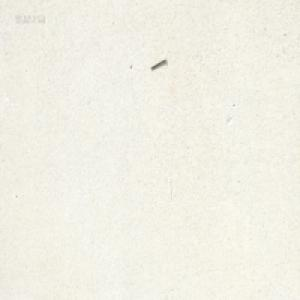Bolt: (149, 59, 166, 72)
